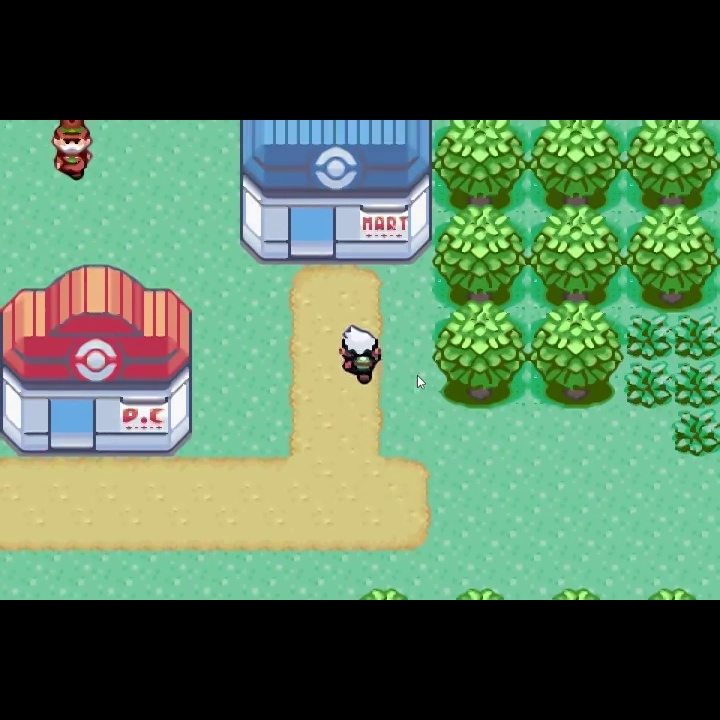grass: (623, 361, 673, 410), (624, 312, 672, 362), (674, 311, 720, 362), (672, 362, 720, 410), (672, 410, 720, 457)
npc: (336, 323, 386, 388), (49, 120, 97, 183)
pokecen: (1, 261, 196, 458)
pokemart: (235, 120, 435, 266)
wall: (529, 301, 626, 410), (433, 299, 529, 409), (625, 204, 720, 313), (527, 205, 625, 304), (435, 204, 529, 306), (529, 120, 625, 212), (626, 120, 720, 211), (434, 120, 529, 210)
